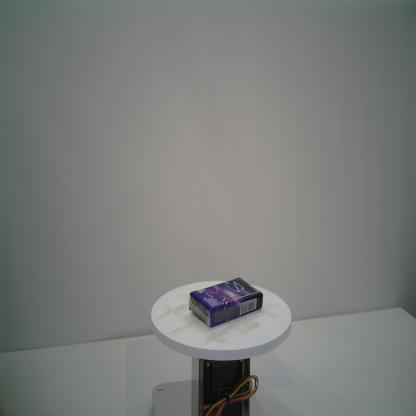Gum: (188, 276, 263, 328)
